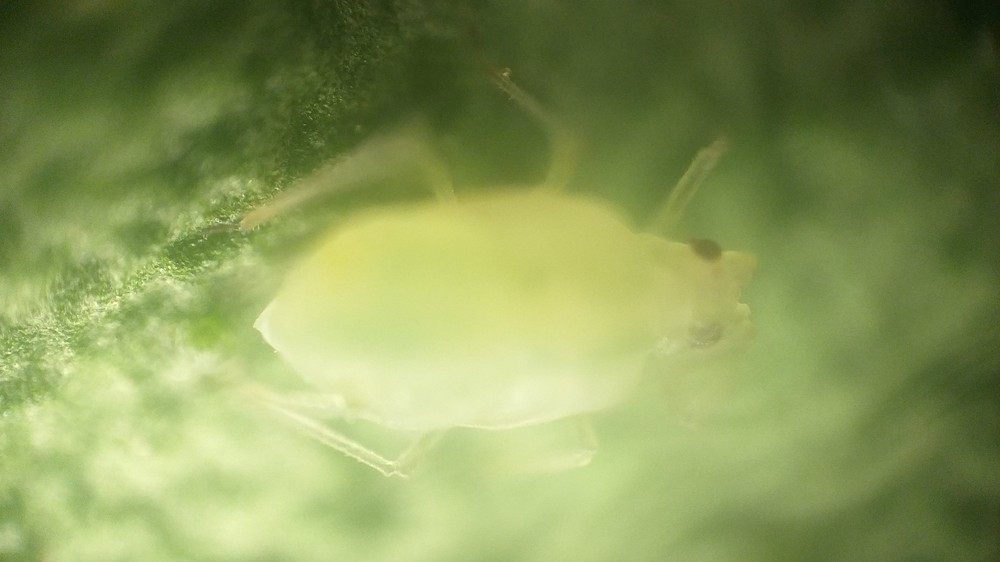Pulgon: (209, 72, 803, 530)
